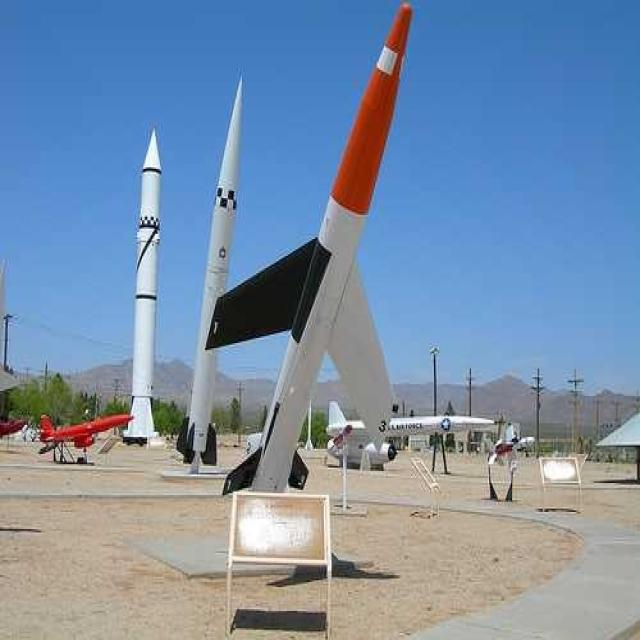missile: (211, 4, 414, 496), (171, 74, 247, 481), (117, 126, 166, 441), (324, 410, 501, 453), (39, 405, 136, 457)
